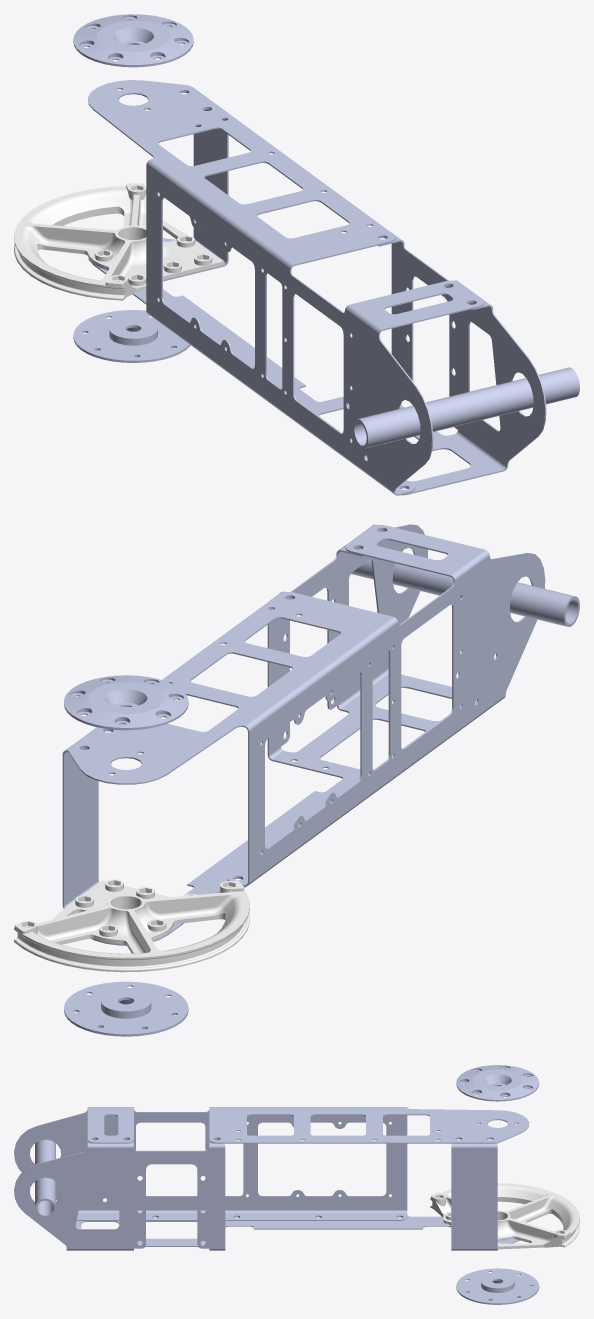
The model's file is OberarmL_A.obj.
3 renders of one model, top to bottom at view 1: azimuth 30°, elevation 25°; view 2: azimuth 150°, elevation 25°; view 3: azimuth 270°, elevation 25°, orthographic. The views are drawn at different scales.
Parts seen in each view (by area): view 1: Stamm|Minimal-OberarmL_(Standard)|Oberarm_links-1|L_Arm_Oberarm_, Stamm|Minimal-OberarmL_(Standard)|Oberarm_links-1|Schalen_Achsab, Stamm|Minimal-OberarmL_(Standard)|Oberarm_links-1|Arm_Achse-2|Bo; view 2: Stamm|Minimal-OberarmL_(Standard)|Oberarm_links-1|L_Arm_Oberarm_, Stamm|Minimal-OberarmL_(Standard)|Oberarm_links-1|Schalen_Achsab, Stamm|Minimal-OberarmL_(Standard)|Oberarm_links-1|Arm_Achse-2|Bo; view 3: Stamm|Minimal-OberarmL_(Standard)|Oberarm_links-1|L_Arm_Oberarm_, Stamm|Minimal-OberarmL_(Standard)|Oberarm_links-1|Schalen_Achsab, Stamm|Minimal-OberarmL_(Standard)|Oberarm_links-1|Arm_Achse-2|Bo.
Boxes of the visible parts, x1,y1,x2,y2 form: Stamm|Minimal-OberarmL_(Standard)|Oberarm_links-1|L_Arm_Oberarm_: [14, 80, 546, 495]; Stamm|Minimal-OberarmL_(Standard)|Oberarm_links-1|Schalen_Achsab: [73, 14, 193, 362]; Stamm|Minimal-OberarmL_(Standard)|Oberarm_links-1|Arm_Achse-2|Bo: [353, 367, 579, 448]; Stamm|Minimal-OberarmL_(Standard)|Oberarm_links-1|L_Arm_Oberarm_: [14, 524, 545, 972]; Stamm|Minimal-OberarmL_(Standard)|Oberarm_links-1|Schalen_Achsab: [64, 675, 188, 1036]; Stamm|Minimal-OberarmL_(Standard)|Oberarm_links-1|Arm_Achse-2|Bo: [351, 559, 579, 626]; Stamm|Minimal-OberarmL_(Standard)|Oberarm_links-1|L_Arm_Oberarm_: [14, 1107, 579, 1250]; Stamm|Minimal-OberarmL_(Standard)|Oberarm_links-1|Schalen_Achsab: [456, 1065, 539, 1304]; Stamm|Minimal-OberarmL_(Standard)|Oberarm_links-1|Arm_Achse-2|Bo: [35, 1139, 55, 1217].
Size of the model in its own units: 0.0807 by 0.1099 by 0.2691.
